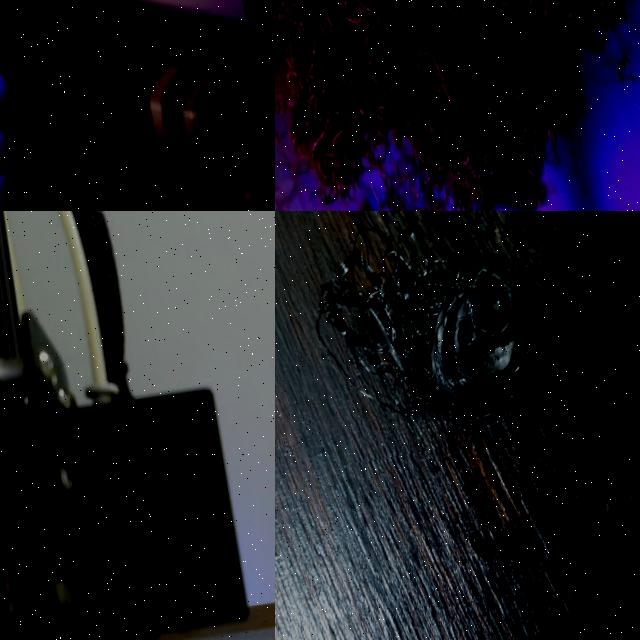spaghetti: (275, 0, 625, 211), (297, 211, 478, 465), (275, 107, 510, 211), (25, 160, 275, 211)
